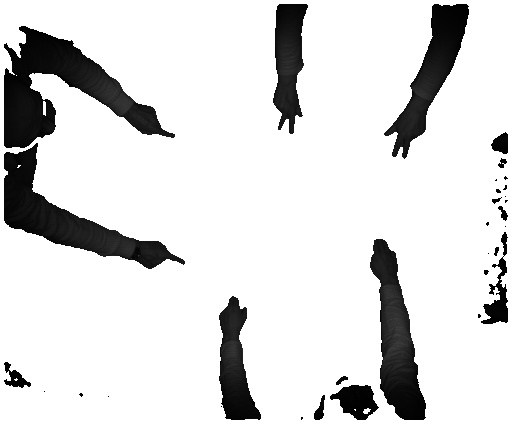hand: (384, 109, 431, 159), (368, 232, 407, 285), (128, 104, 175, 143), (135, 240, 191, 271), (272, 86, 303, 135), (216, 296, 247, 339)
